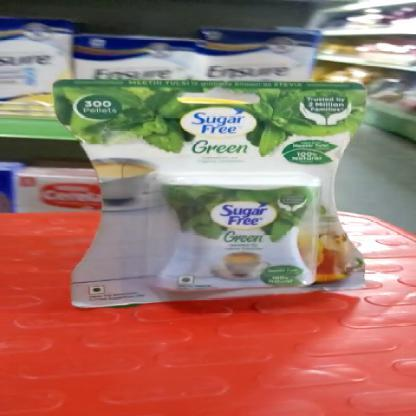SUGAR FREE GRN 300 PELLET: (57, 78, 363, 309)
